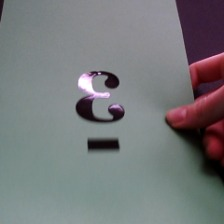green3: (63, 63, 138, 161)
